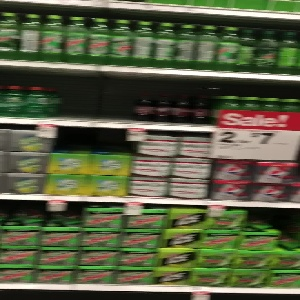void: (56, 66, 134, 124)
